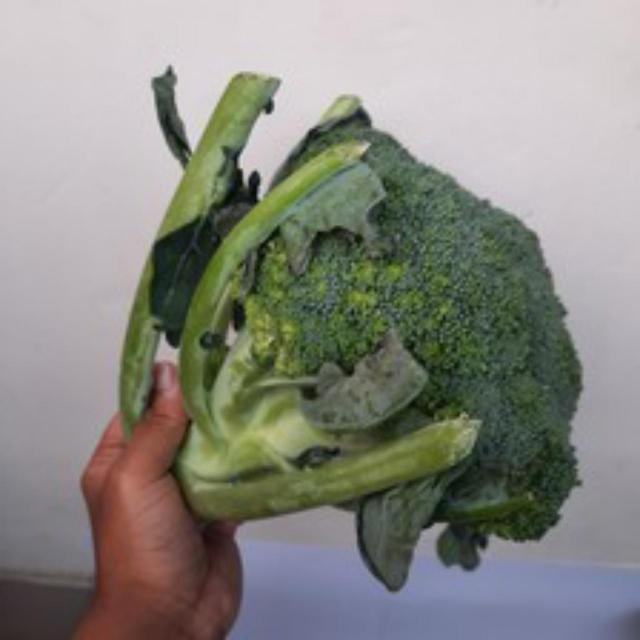broccoli: (205, 112, 608, 558)
